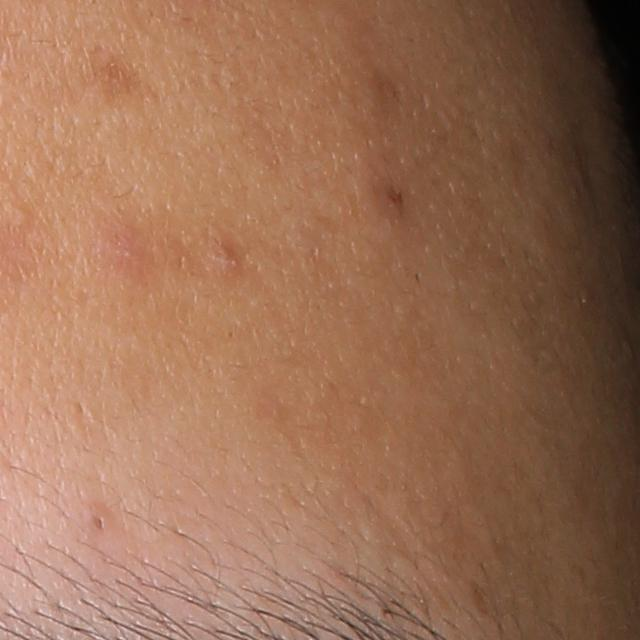comedo: (10, 208, 37, 232), (87, 507, 110, 532)
papule: (203, 235, 244, 278)
